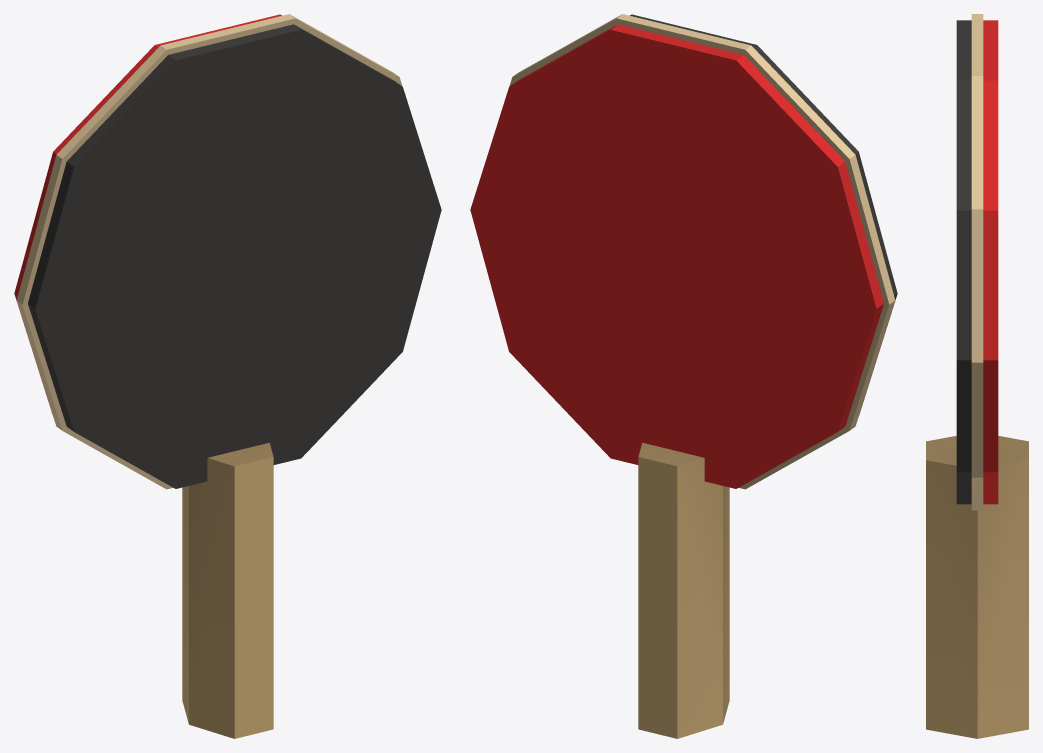
Rendered from held_paddle_01.glb.
3 renders of one model, left to right at view 1: azimuth 30°, elevation 25°; view 2: azimuth 150°, elevation 25°; view 3: azimuth 270°, elevation 25°, orthographic.
Parts seen in each view (by area): view 1: held_paddle_01_mesh; view 2: held_paddle_01_mesh; view 3: held_paddle_01_mesh.
Part boxes in pixels (bbox=[...]): held_paddle_01_mesh: bbox=[14, 14, 441, 738]; held_paddle_01_mesh: bbox=[470, 14, 897, 738]; held_paddle_01_mesh: bbox=[926, 14, 1028, 738].
Bounding box in the file's own units: 0.16 × 0.2506 × 0.0346.
1 material, 1 textured.
